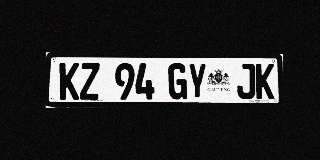4: (135, 63, 154, 99)
9: (115, 63, 134, 100)
G: (168, 63, 187, 99)
J: (237, 63, 255, 99)
K: (59, 63, 79, 100), (256, 64, 274, 99)
Y: (188, 63, 206, 99)
Z: (80, 63, 100, 100)
